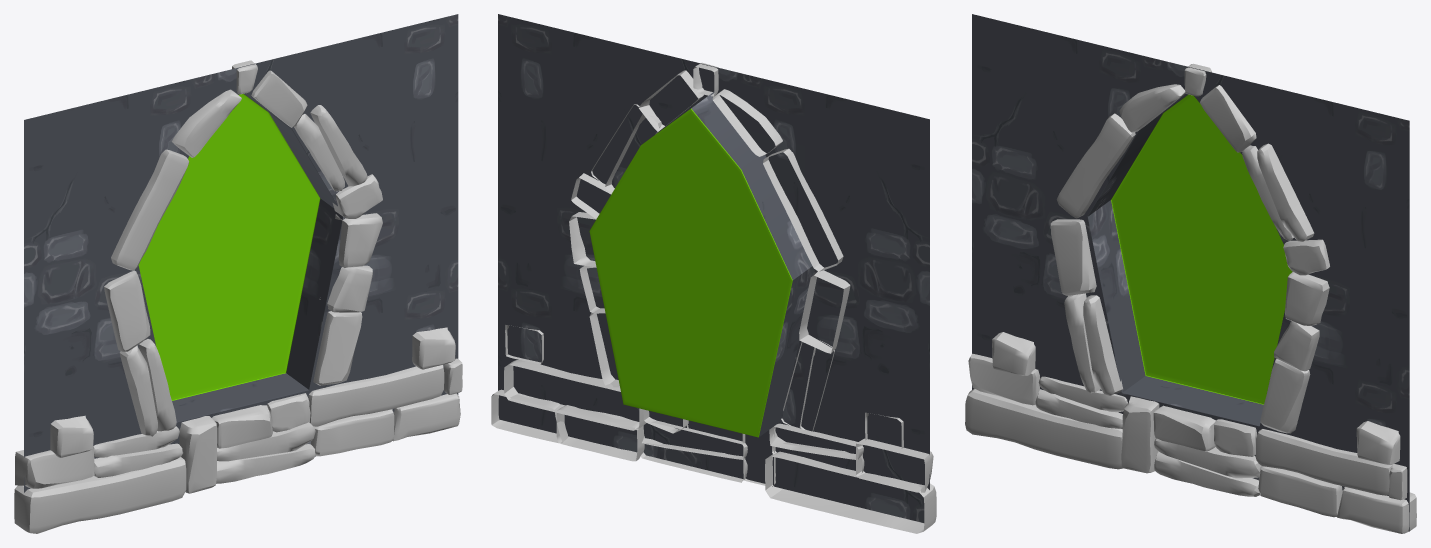
The model's file is wall with crystal2.fbx.
The picture shows the model from 3 angles, left to right: view 1: azimuth 30°, elevation 25°; view 2: azimuth 150°, elevation 25°; view 3: azimuth 330°, elevation 25°; orthographic projection.
Parts seen in each view (by area): view 1: Wall_crystal_2; view 2: Wall_crystal_2; view 3: Wall_crystal_2.
Part boxes in pixels (x1,y1,x2,y2): Wall_crystal_2: (14, 14, 462, 533); Wall_crystal_2: (491, 14, 936, 533); Wall_crystal_2: (965, 14, 1416, 533).
Size of the model in its own units: 14.07 by 12.72 by 1.87.
